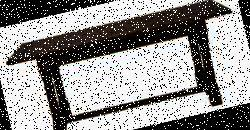Mesa: (4, 0, 249, 129)
